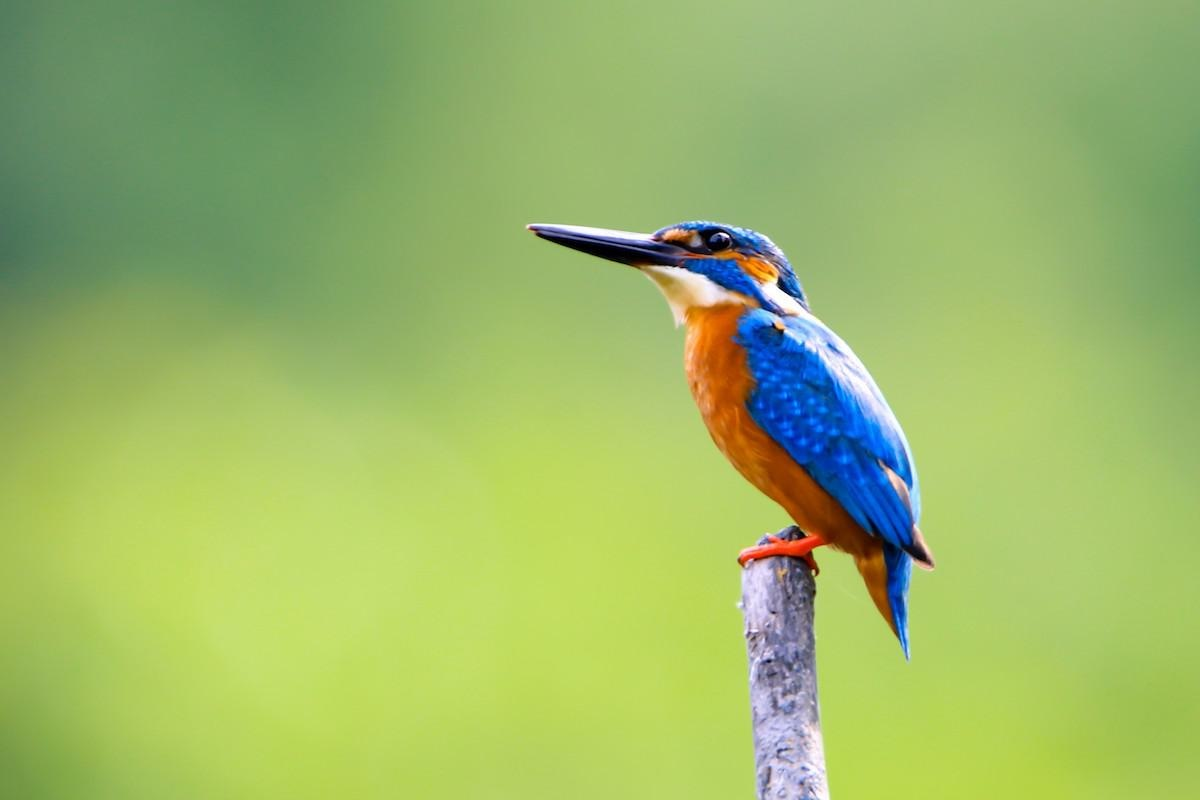kingfisher: (519, 195, 945, 633)
